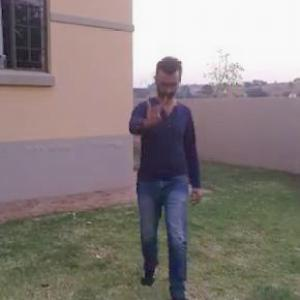takeoff-hand: (140, 92, 170, 129)
